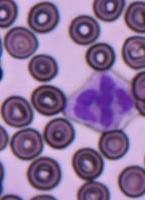N: (65, 69, 135, 132)
